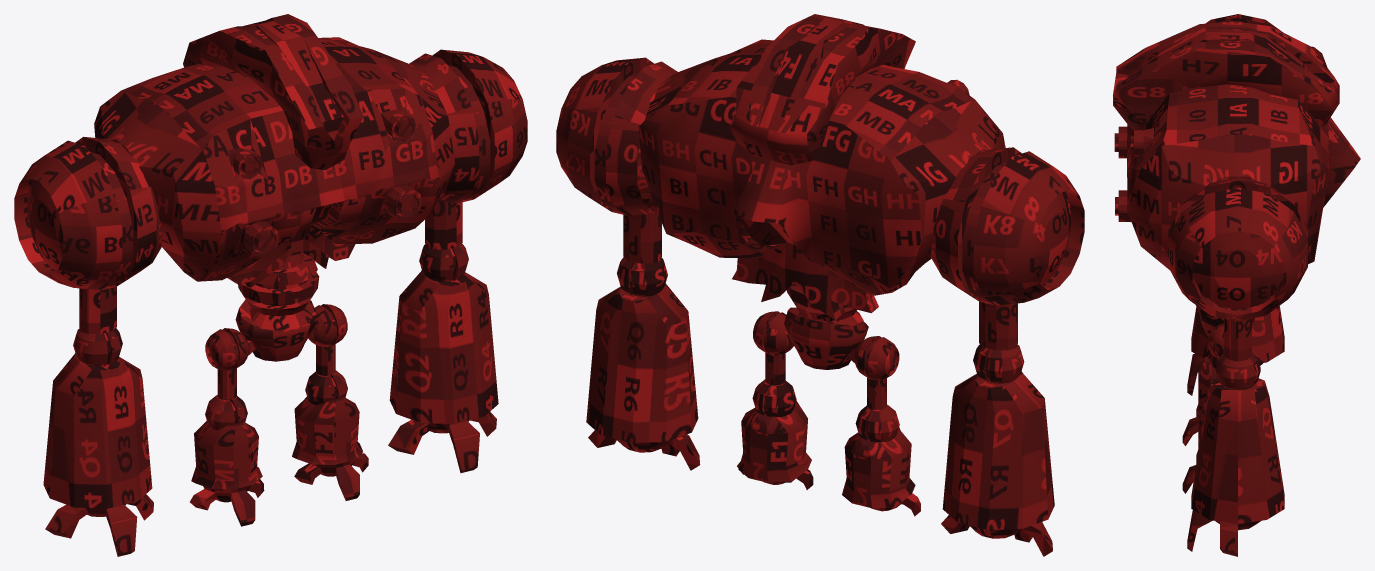
Rendered from uvmappedrobot.fbx.
The picture shows the model from 3 angles, left to right: view 1: azimuth 30°, elevation 25°; view 2: azimuth 150°, elevation 25°; view 3: azimuth 270°, elevation 25°; orthographic projection. The views are drawn at different scales.
Visible parts, largest first — view 1: mainbody, uvrobopleasedontbreak_0004:r_shoulder, uvrobopleasedontbreak_0004:r_upperArm, uvrobopleasedontbreak_0004:l_upperArm, uvrobopleasedontbreak_0004:head, uvrobopleasedontbreak_0004:l_shoulder, uvrobopleasedontbreak_0004:waist, uvrobopleasedontbreak_0004:r_shin, uvrobopleasedontbreak_0004:l_shin, uvrobopleasedontbreak_0004:l_hand1, uvrobopleasedontbreak_0004:r_hand1, uvrobopleasedontbreak_0004:hip (+10 smaller); view 2: mainbody, uvrobopleasedontbreak_0004:r_shoulder, uvrobopleasedontbreak_0004:head, uvrobopleasedontbreak_0004:l_upperArm, uvrobopleasedontbreak_0004:r_upperArm, uvrobopleasedontbreak_0004:l_shoulder, uvrobopleasedontbreak_0004:l_shin, uvrobopleasedontbreak_0004:r_shin, uvrobopleasedontbreak_0004:hip, uvrobopleasedontbreak_0004:l_bicep, uvrobopleasedontbreak_0004:r_bicep, uvrobopleasedontbreak_0004:r_hip (+8 smaller); view 3: mainbody, uvrobopleasedontbreak_0004:l_shoulder, uvrobopleasedontbreak_0004:head, uvrobopleasedontbreak_0004:l_upperArm, uvrobopleasedontbreak_0004:r_upperArm, uvrobopleasedontbreak_0004:l_elbow, uvrobopleasedontbreak_0004:l_hand1, uvrobopleasedontbreak_0004:l_bicep, uvrobopleasedontbreak_0004:r_shin, uvrobopleasedontbreak_0004:l_hip, uvrobopleasedontbreak_0004:r_shoulder, uvrobopleasedontbreak_0004:hip (+1 smaller).
Boxes of the visible parts, bbox=[...] form: mainbody: bbox=[94, 37, 454, 287]; uvrobopleasedontbreak_0004:r_shoulder: bbox=[14, 136, 162, 290]; uvrobopleasedontbreak_0004:r_upperArm: bbox=[43, 353, 152, 508]; uvrobopleasedontbreak_0004:l_upperArm: bbox=[389, 270, 498, 423]; uvrobopleasedontbreak_0004:head: bbox=[183, 14, 363, 170]; uvrobopleasedontbreak_0004:l_shoulder: bbox=[409, 49, 527, 203]; uvrobopleasedontbreak_0004:waist: bbox=[238, 253, 319, 330]; uvrobopleasedontbreak_0004:r_shin: bbox=[191, 421, 262, 489]; uvrobopleasedontbreak_0004:l_shin: bbox=[292, 397, 362, 464]; uvrobopleasedontbreak_0004:l_hand1: bbox=[388, 411, 496, 473]; uvrobopleasedontbreak_0004:r_hand1: bbox=[45, 494, 153, 556]; uvrobopleasedontbreak_0004:hip: bbox=[235, 299, 317, 361]; mainbody: bbox=[638, 39, 1005, 320]; uvrobopleasedontbreak_0004:r_shoulder: bbox=[930, 147, 1084, 305]; uvrobopleasedontbreak_0004:head: bbox=[730, 14, 915, 165]; uvrobopleasedontbreak_0004:l_upperArm: bbox=[586, 283, 698, 442]; uvrobopleasedontbreak_0004:r_upperArm: bbox=[942, 371, 1054, 529]; uvrobopleasedontbreak_0004:l_shoulder: bbox=[556, 57, 677, 215]; uvrobopleasedontbreak_0004:l_shin: bbox=[738, 401, 811, 482]; uvrobopleasedontbreak_0004:r_shin: bbox=[842, 427, 915, 508]; uvrobopleasedontbreak_0004:hip: bbox=[784, 307, 868, 369]; uvrobopleasedontbreak_0004:l_bicep: bbox=[623, 212, 661, 263]; uvrobopleasedontbreak_0004:r_bicep: bbox=[979, 301, 1017, 350]; uvrobopleasedontbreak_0004:r_hip: bbox=[854, 336, 899, 380]; mainbody: bbox=[1114, 46, 1360, 269]; uvrobopleasedontbreak_0004:l_shoulder: bbox=[1168, 177, 1307, 321]; uvrobopleasedontbreak_0004:head: bbox=[1113, 21, 1339, 131]; uvrobopleasedontbreak_0004:l_upperArm: bbox=[1191, 378, 1284, 523]; uvrobopleasedontbreak_0004:r_upperArm: bbox=[1191, 306, 1284, 363]; uvrobopleasedontbreak_0004:l_elbow: bbox=[1215, 352, 1260, 390]; uvrobopleasedontbreak_0004:l_hand1: bbox=[1187, 510, 1261, 556]; uvrobopleasedontbreak_0004:l_bicep: bbox=[1224, 318, 1251, 361]; uvrobopleasedontbreak_0004:r_shin: bbox=[1196, 357, 1217, 418]; uvrobopleasedontbreak_0004:l_hip: bbox=[1208, 323, 1224, 359]; uvrobopleasedontbreak_0004:r_shoulder: bbox=[1206, 14, 1283, 32]; uvrobopleasedontbreak_0004:hip: bbox=[1196, 306, 1254, 337].
Bounding box in the file's own units: 4.28 × 4.13 × 2.13.
